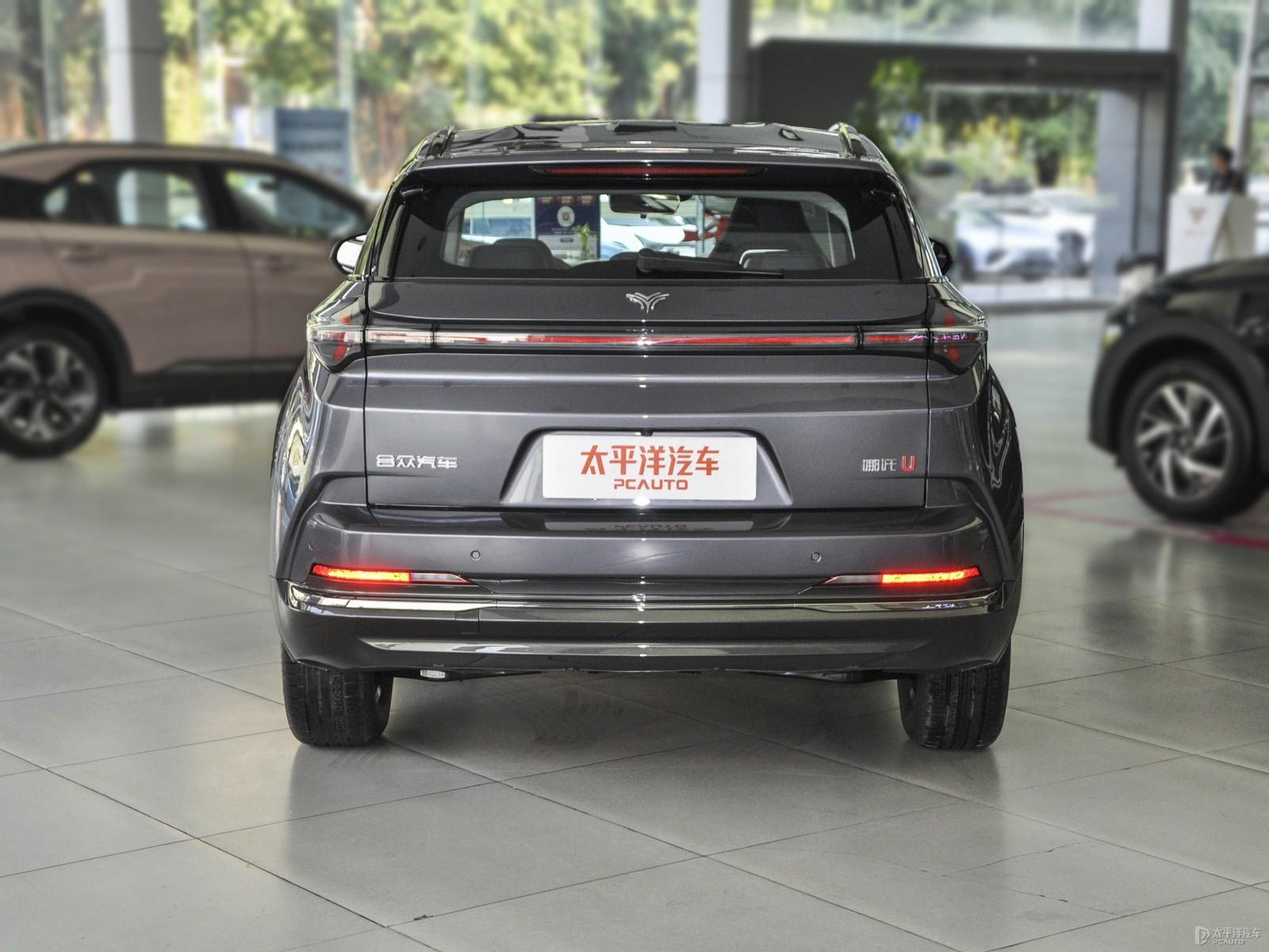NETA: (624, 293, 669, 313)
